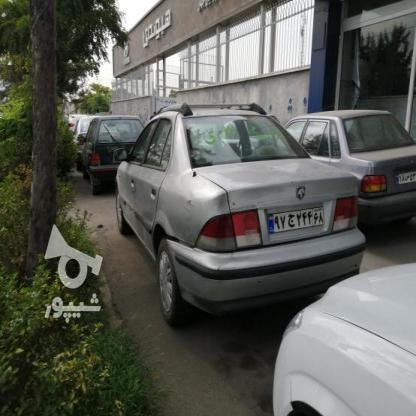licence: (268, 203, 323, 235), (395, 172, 415, 185)
